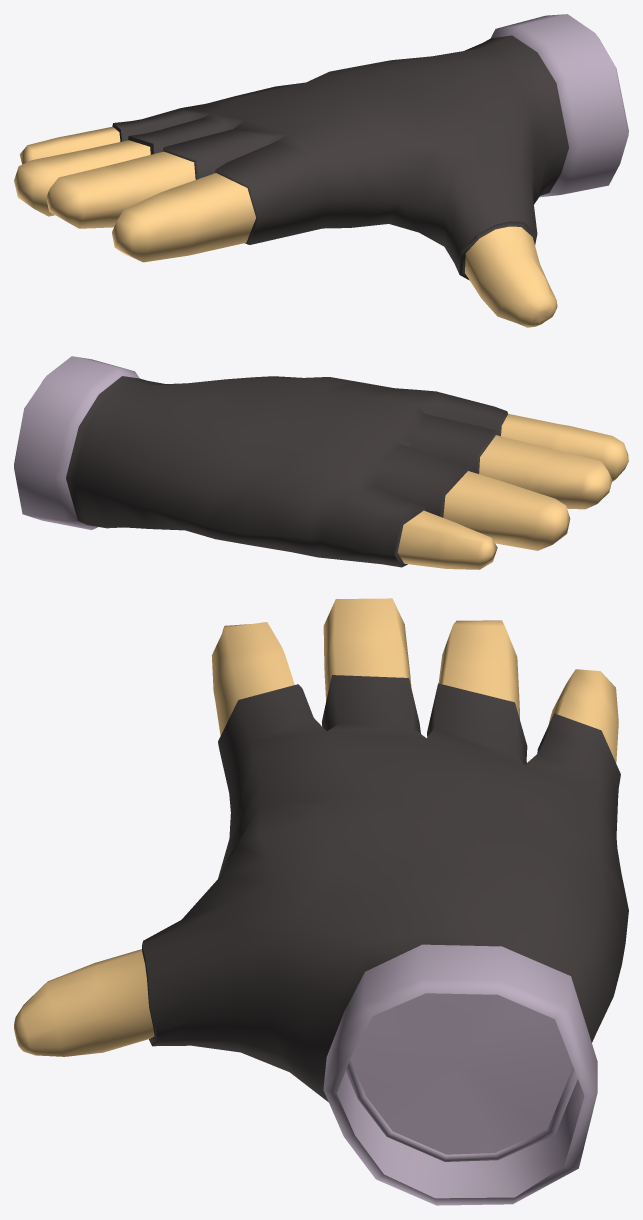
Rendered from Right_Arm_03_02.fbx.
3 views of the same model, one above another, from view 1: azimuth 30°, elevation 25°; view 2: azimuth 150°, elevation 25°; view 3: azimuth 270°, elevation 25° (orthographic). The views are drawn at different scales.
Parts seen in each view (by area): view 1: Right_Arm_03_02; view 2: Right_Arm_03_02; view 3: Right_Arm_03_02.
Part boxes in pixels (x1,y1,x2,y2): Right_Arm_03_02: (14,14,628,327); Right_Arm_03_02: (14,356,628,569); Right_Arm_03_02: (14,598,628,1205).
Size of the model in its own units: 26.07 by 7.21 by 16.87.
